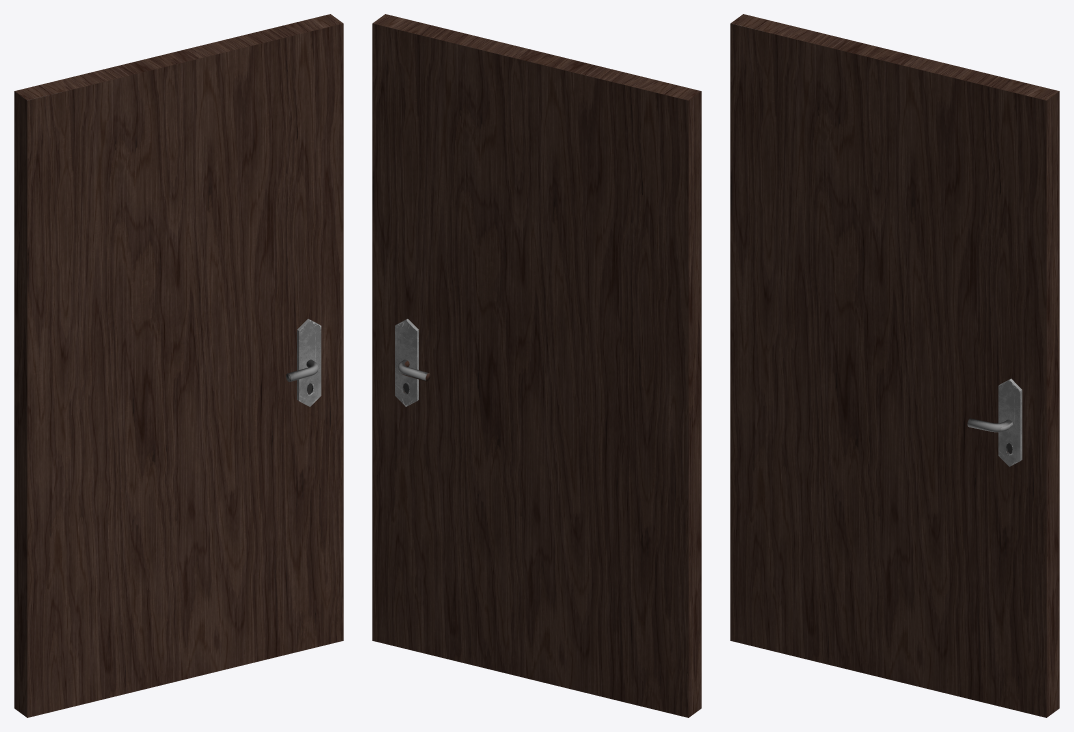
File: Door.fbx
3 views of the same model, side by side, from view 1: azimuth 30°, elevation 25°; view 2: azimuth 150°, elevation 25°; view 3: azimuth 330°, elevation 25° (orthographic).
Parts seen in each view (by area): view 1: Plane.017; view 2: Plane.017; view 3: Plane.017.
Boxes of the visible parts, x1,y1,x2,y2 form: Plane.017: [14, 14, 343, 717]; Plane.017: [372, 14, 701, 717]; Plane.017: [730, 14, 1059, 717].
Size of the model in its own units: 128 by 239 by 27.42.
